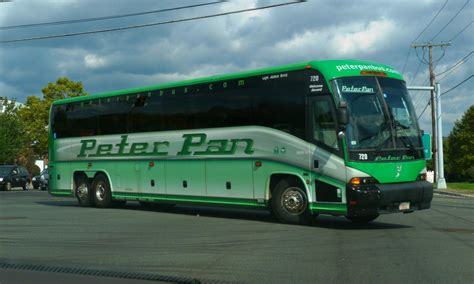bus: (50, 65, 432, 218)
